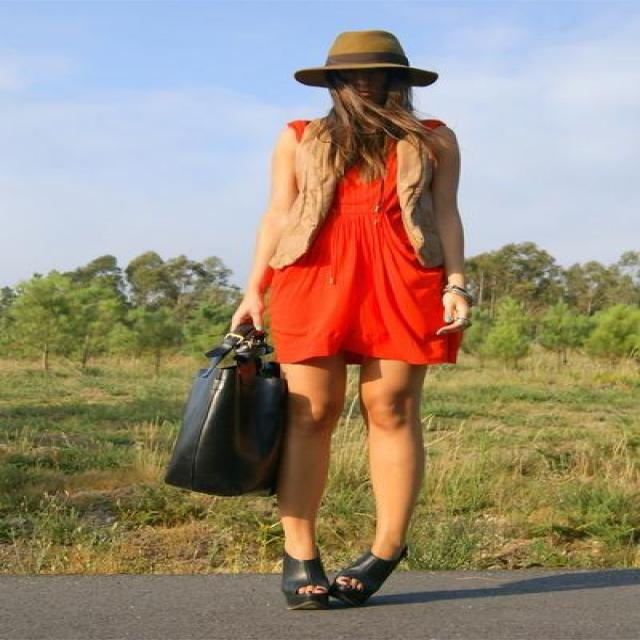bag: (165, 346, 296, 497)
dress: (258, 167, 460, 370)
hat: (294, 30, 437, 95)
jacket: (254, 116, 448, 288)
shoe: (270, 550, 402, 609)
